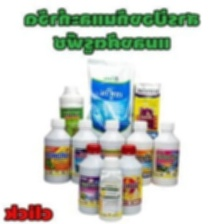insecticide: (81, 56, 138, 144), (124, 82, 164, 149), (76, 142, 110, 216), (111, 142, 143, 216), (68, 117, 101, 185), (122, 119, 155, 187), (149, 119, 182, 187), (41, 116, 73, 184), (96, 118, 127, 186), (97, 155, 125, 223), (57, 83, 84, 142)
